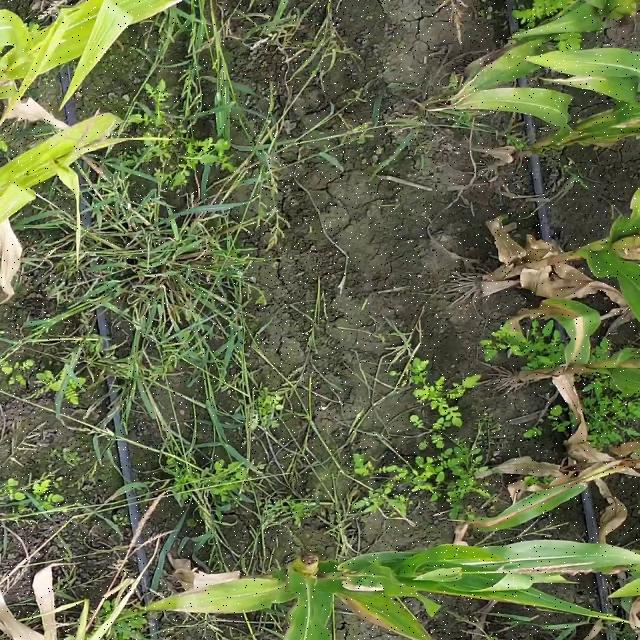northern-leaf-blight: (319, 582, 440, 640), (546, 305, 617, 380), (463, 485, 567, 525), (563, 104, 640, 152), (149, 584, 250, 618)
